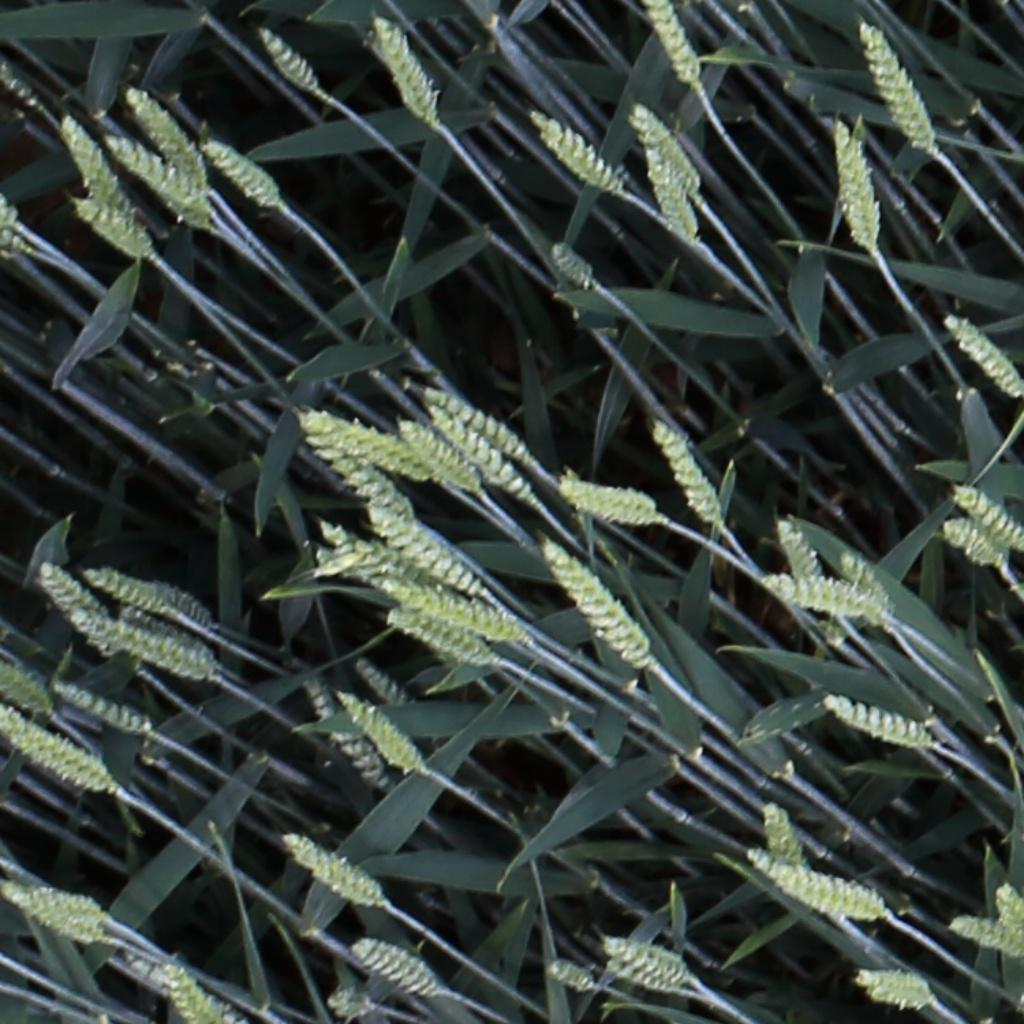0-0: (536, 535, 651, 666), (854, 16, 936, 154), (409, 379, 533, 466), (364, 507, 481, 599), (51, 107, 139, 229), (429, 405, 534, 502), (323, 523, 460, 597), (114, 77, 206, 184), (299, 412, 432, 484), (645, 413, 726, 531), (304, 681, 388, 793), (0, 709, 110, 794), (748, 854, 884, 921), (363, 12, 438, 128), (309, 436, 412, 520), (379, 580, 520, 641), (529, 110, 626, 196), (278, 834, 380, 912), (80, 610, 199, 675), (102, 136, 207, 209), (830, 114, 887, 248), (331, 690, 421, 774), (942, 311, 1024, 400), (625, 98, 700, 191), (636, 139, 700, 247), (387, 610, 499, 670), (393, 415, 477, 494), (761, 575, 887, 627), (86, 569, 202, 625), (0, 880, 99, 943), (821, 697, 931, 748), (115, 607, 209, 666), (50, 682, 150, 737), (197, 136, 277, 204), (249, 20, 320, 95), (950, 483, 1024, 554), (557, 481, 660, 532), (350, 939, 441, 996), (643, 0, 701, 88), (35, 562, 109, 625), (70, 196, 150, 253), (835, 548, 892, 621), (599, 937, 685, 985), (770, 513, 823, 587), (940, 520, 1010, 575), (757, 798, 806, 876), (154, 961, 215, 1022), (853, 970, 936, 1014), (16, 887, 98, 929), (348, 658, 406, 709), (947, 917, 1024, 954), (607, 963, 681, 1001), (0, 666, 55, 716), (544, 238, 595, 289), (991, 882, 1024, 944), (543, 961, 593, 992), (154, 200, 212, 226), (328, 990, 378, 1018)
